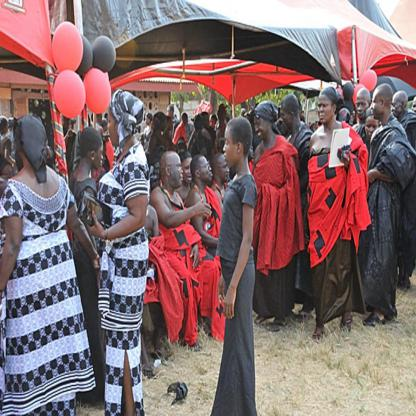face: (224, 127, 237, 167), (170, 154, 184, 189), (319, 96, 334, 124), (109, 110, 120, 146), (356, 94, 370, 119), (366, 115, 380, 140), (201, 157, 214, 183), (281, 105, 292, 133), (255, 115, 267, 139), (182, 158, 193, 184), (372, 95, 383, 120), (221, 155, 231, 182), (94, 144, 103, 169), (392, 99, 402, 118), (158, 146, 166, 163), (337, 99, 345, 113), (280, 111, 286, 127), (296, 104, 302, 117), (345, 114, 351, 127), (413, 100, 416, 122), (164, 120, 169, 132), (154, 164, 160, 174), (205, 116, 210, 127), (210, 117, 215, 128), (146, 117, 151, 125), (168, 109, 173, 117), (302, 113, 306, 120)
